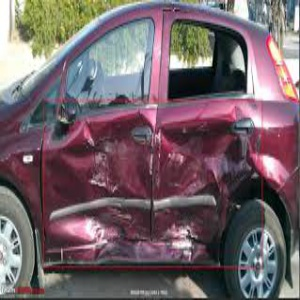bumper: (102, 127, 235, 232)
